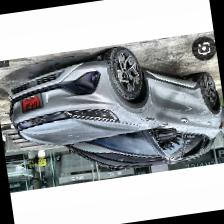EV: (3, 34, 224, 188)
